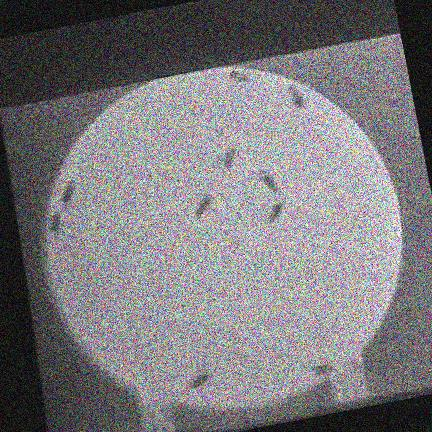fly: (260, 170, 277, 192), (194, 193, 210, 216), (267, 199, 282, 223), (288, 84, 303, 107), (188, 372, 208, 388), (61, 180, 74, 203), (48, 210, 60, 234), (221, 147, 236, 166), (226, 69, 248, 81), (310, 363, 332, 374)
